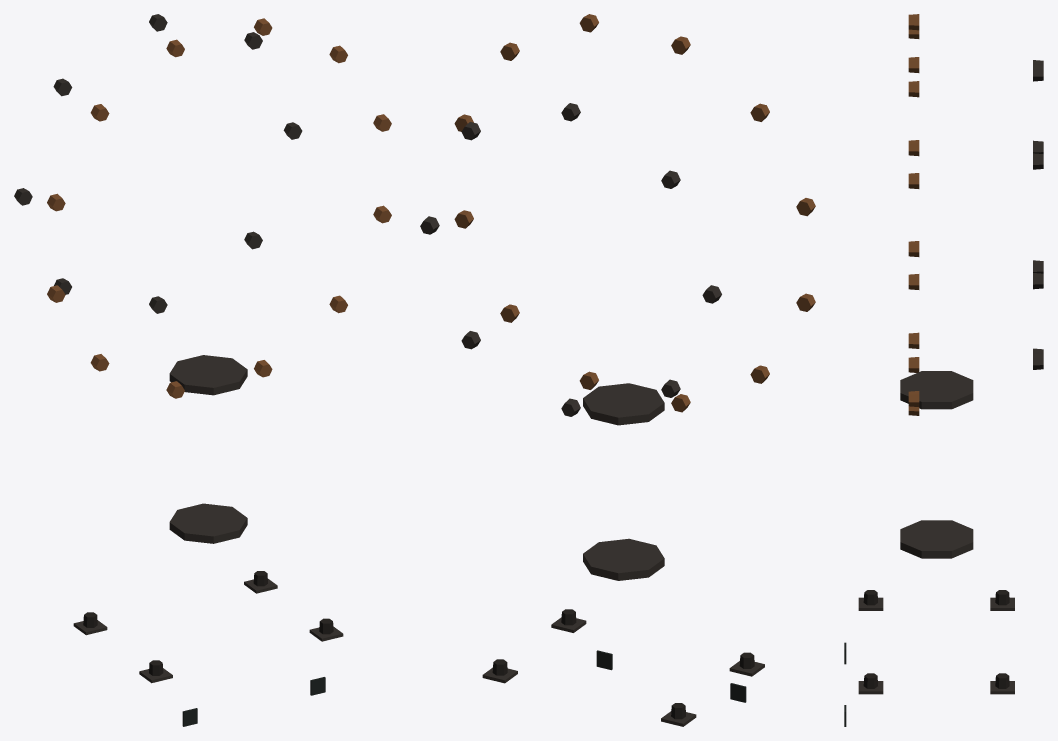
File: gauge_detail1.glb
3 views of the same model, side by side, from view 1: azimuth 30°, elevation 25°; view 2: azimuth 150°, elevation 25°; view 3: azimuth 270°, elevation 25° (orthographic). The views are drawn at different scales.
Visible parts, largest first — view 1: gauge_detail1.001; view 2: gauge_detail1.001; view 3: gauge_detail1.001.
Part boxes in pixels (bbox=[...]): gauge_detail1.001: bbox=[14, 14, 391, 726]; gauge_detail1.001: bbox=[420, 14, 815, 726]; gauge_detail1.001: bbox=[844, 14, 1043, 726].
Size of the model in its own units: 2.4 by 4.39 by 1.21.
